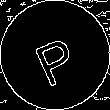P_NW: (28, 25, 82, 85)
